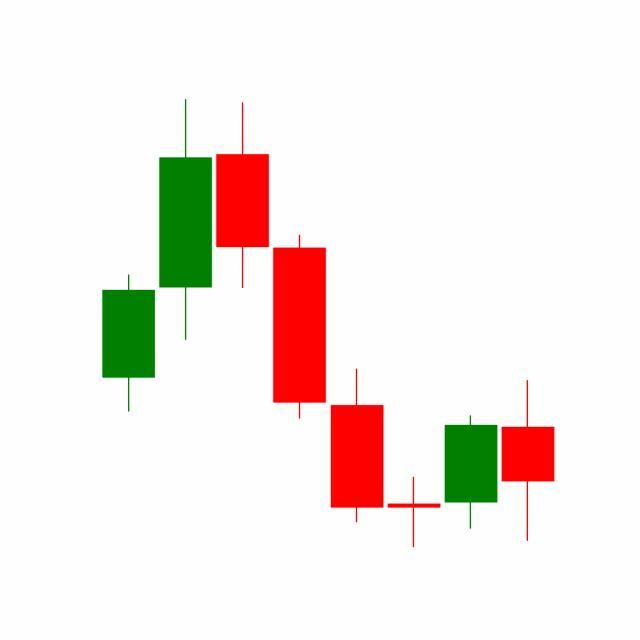Ladder Bottom: (214, 99, 501, 549)
